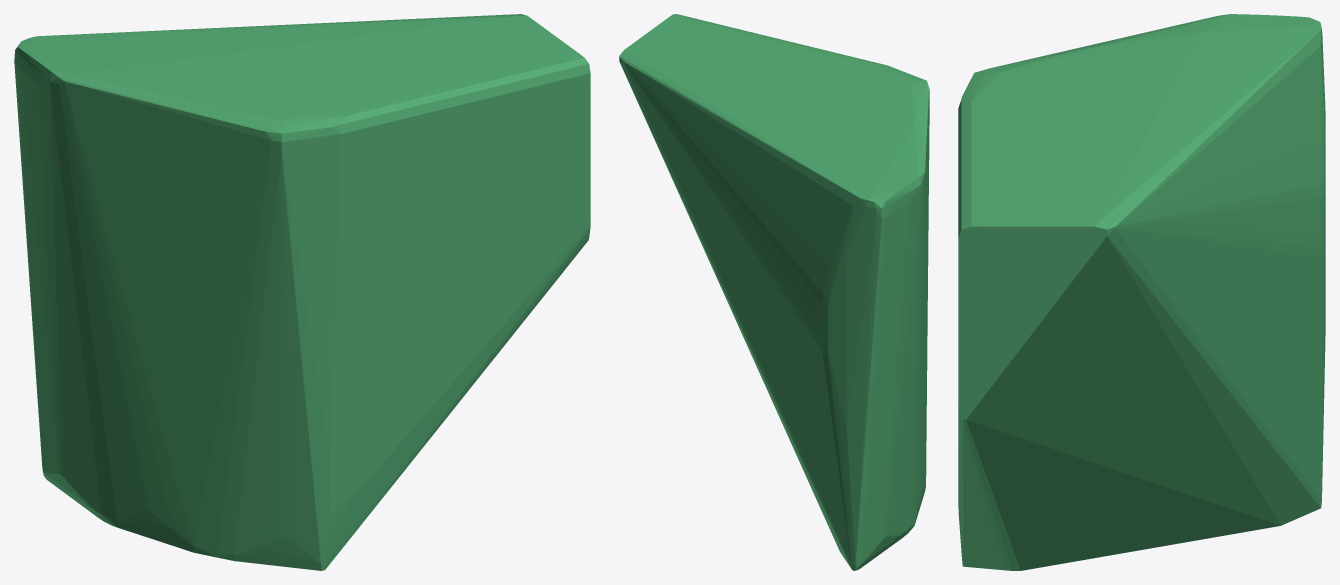
Rendered from left-shoulder-pitch-0_part_3.obj.
3 renders of one model, left to right at view 1: azimuth 30°, elevation 25°; view 2: azimuth 150°, elevation 25°; view 3: azimuth 270°, elevation 25°, orthographic. The views are drawn at different scales.
Bounding box in the file's own units: 0.0505 × 0.0521 × 0.0361.
